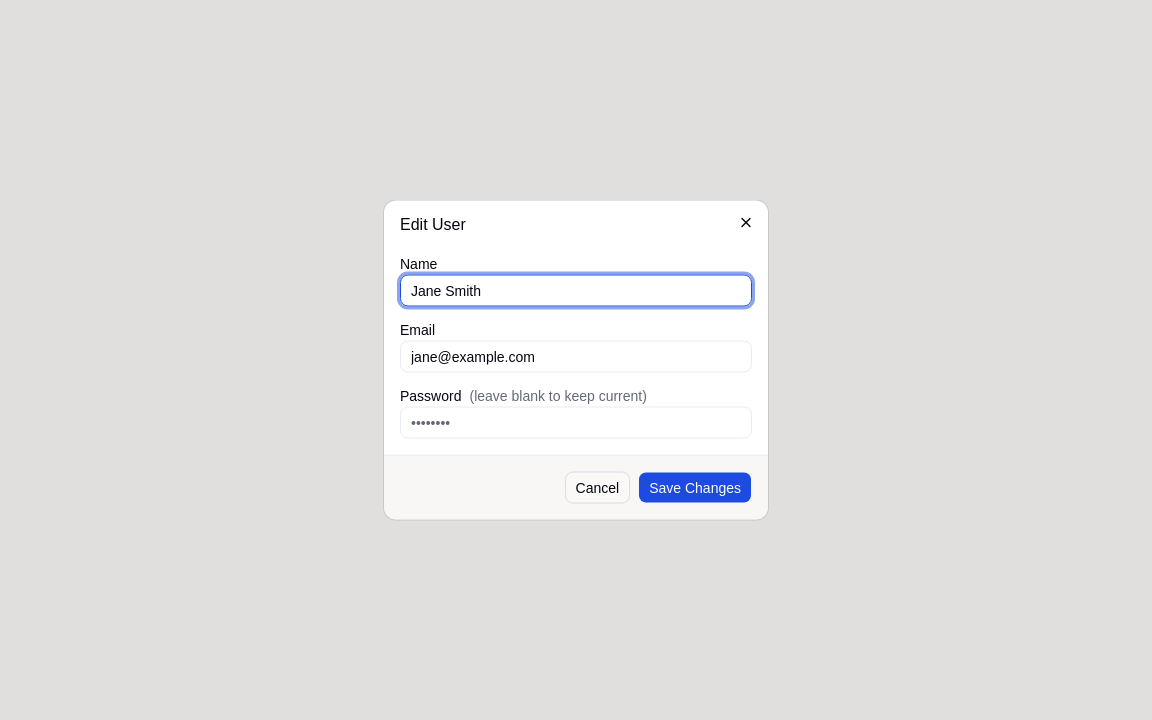
Test: UserFormDialog (edit) — validation › shows password error when a short password is entered in edit mode
Type "short" into the password field labelled "Password (leave blank to keep current)" at point(576, 422), box [400, 406, 752, 438]
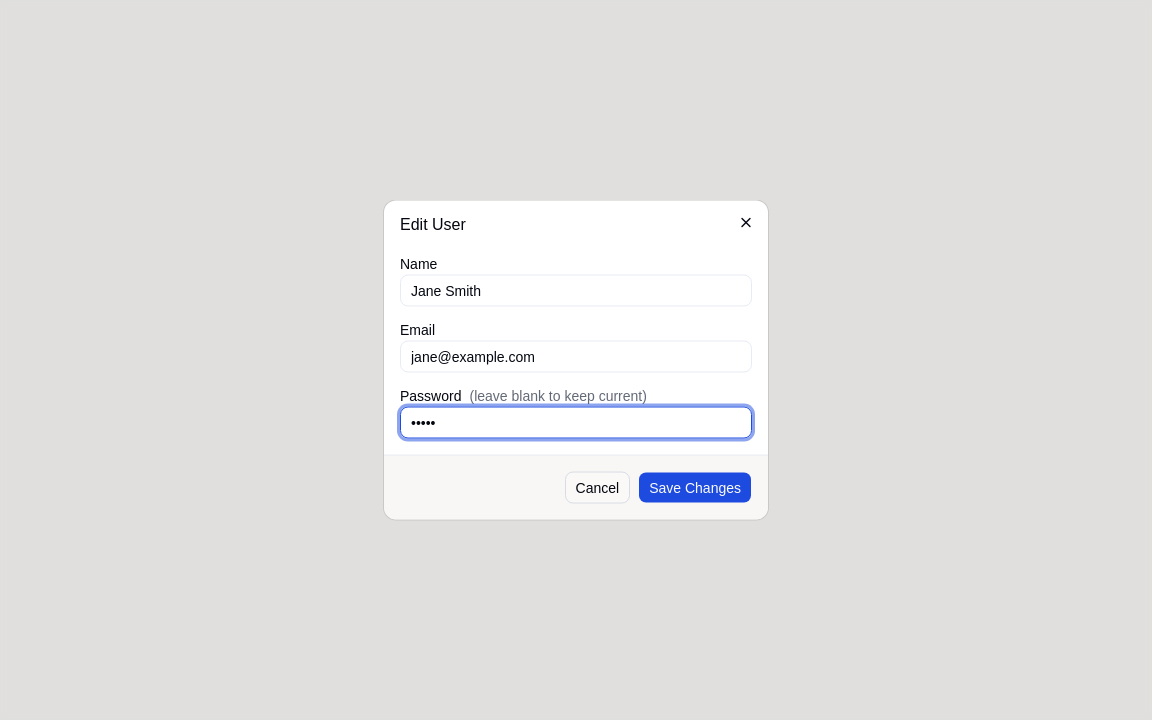
Click the button "Save Changes" at point(695, 488), box [638, 472, 752, 504]
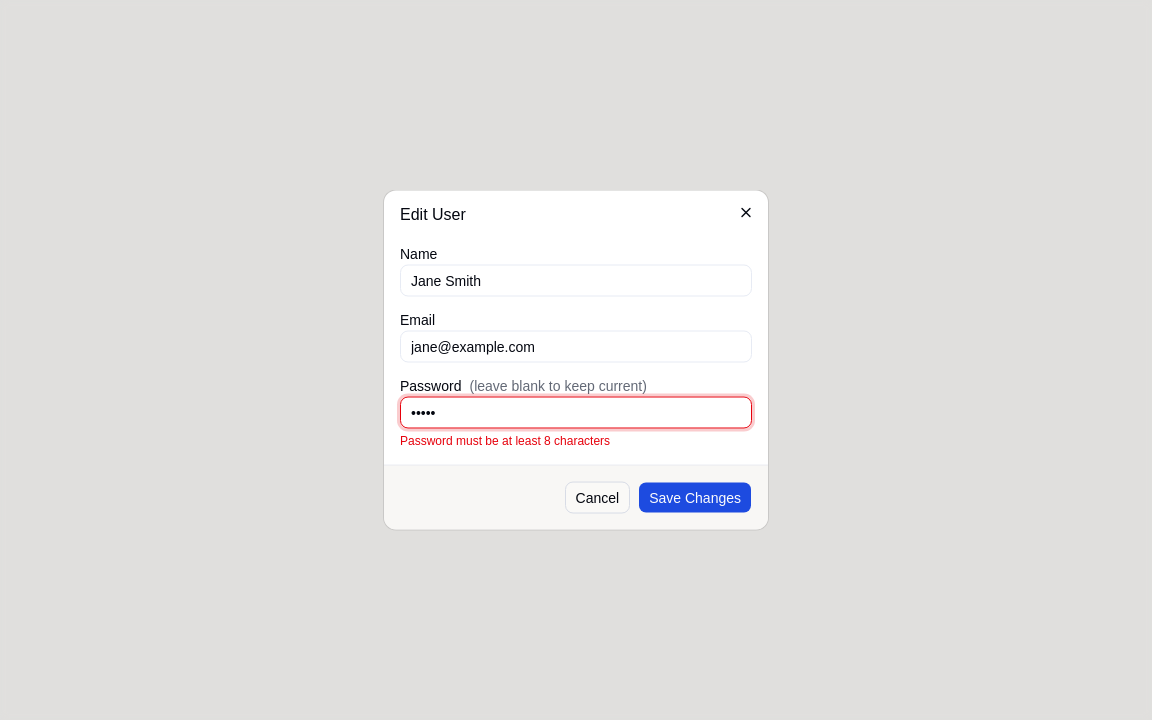
Now the text "Password must be at least 8 characters" is shown, box [400, 434, 610, 448]
